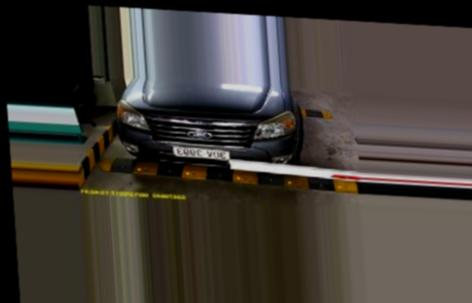License_Plate: (173, 146, 231, 163)
